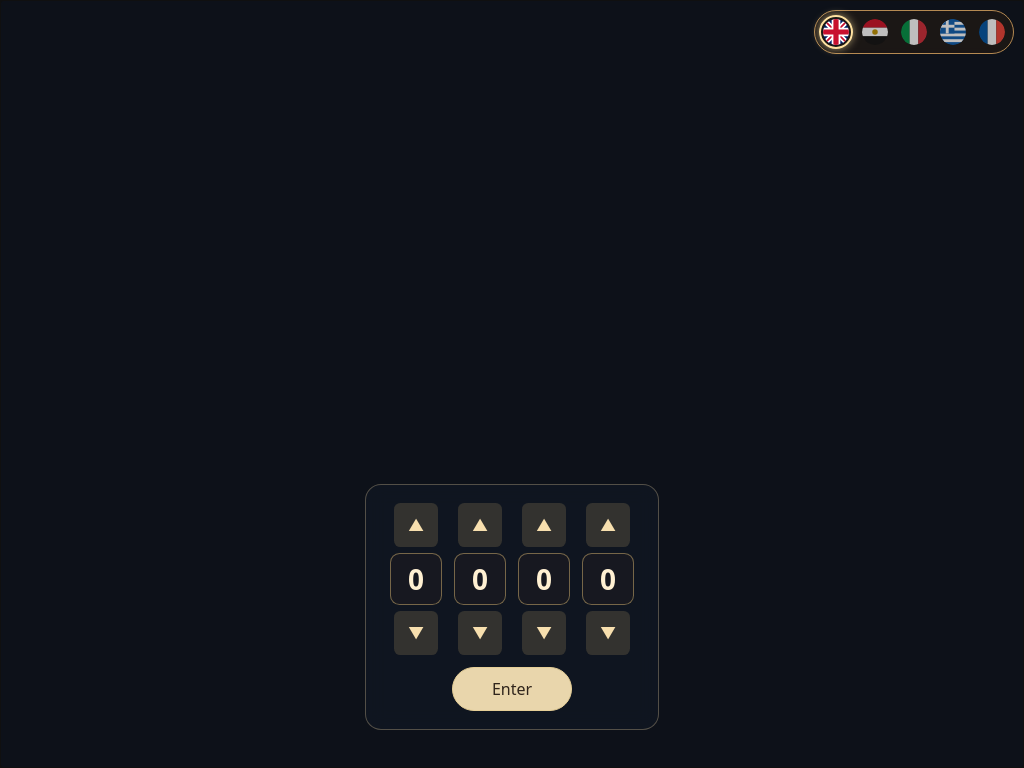
Test: GatePage — unauthenticated › shows a live cooldown countdown on a 429/RATE_LIMITED response
Click the button "Enter" at (512,689), box left=452, top=667, right=572, bottom=711
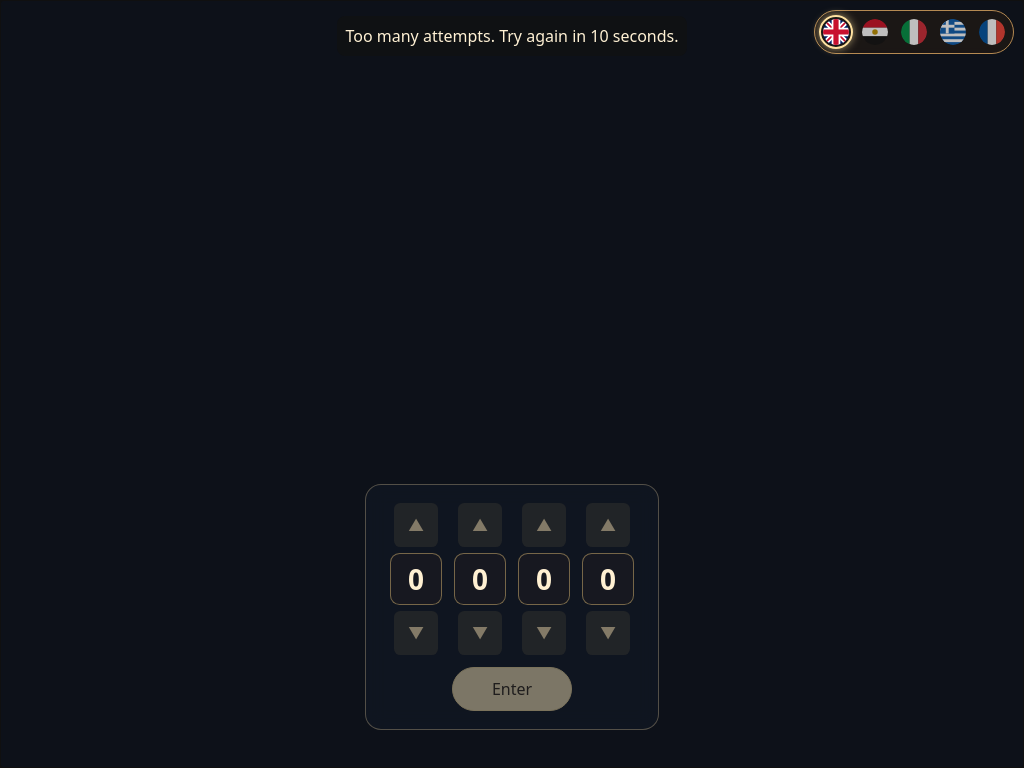
Check: the text "Too many attempts. Try again in 10 seconds." is shown, box left=346, top=25, right=678, bottom=47
Check: the button "Enter" is disabled, box left=452, top=667, right=572, bottom=711
